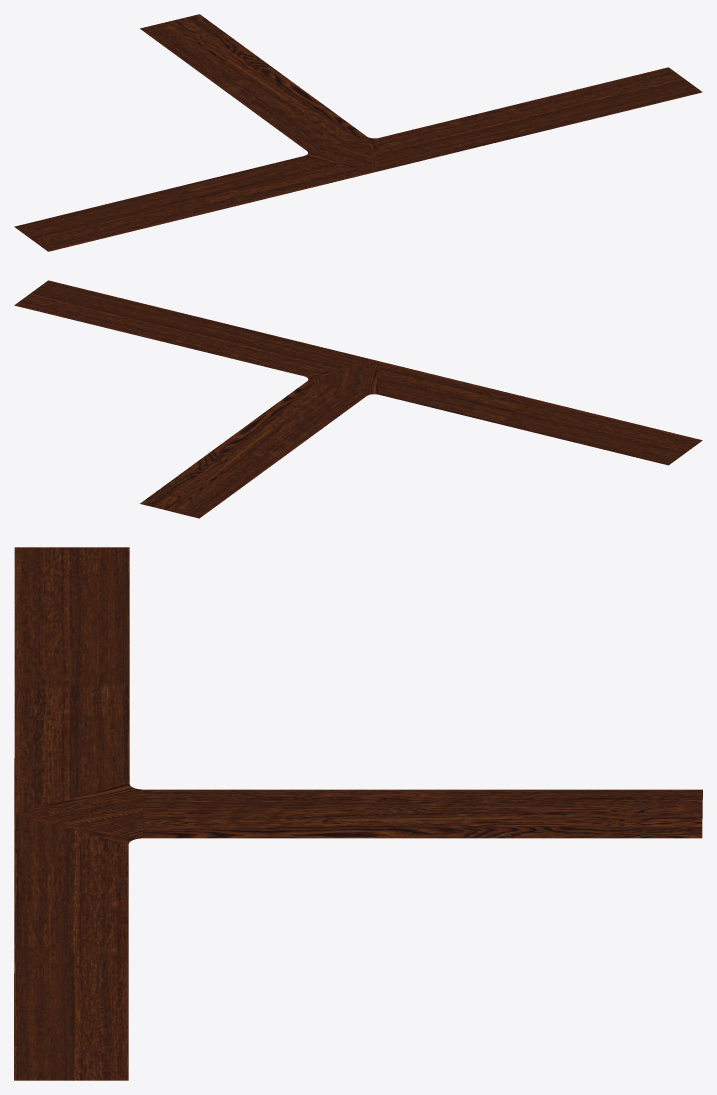
The model's file is floor_wall_T.fbx.
3 views of the same model, one above another, from view 1: azimuth 30°, elevation 25°; view 2: azimuth 150°, elevation 25°; view 3: azimuth 270°, elevation 25° (orthographic). The views are drawn at different scales.
Parts seen in each view (by area): view 1: interfloor_corner_T.001; view 2: interfloor_corner_T.001; view 3: interfloor_corner_T.001.
Part boxes in pixels (x1,y1,x2,y2): interfloor_corner_T.001: [14, 14, 702, 251]; interfloor_corner_T.001: [14, 280, 702, 518]; interfloor_corner_T.001: [14, 547, 702, 1080].
Bounding box in the file's own units: 440 × 0 × 240.
